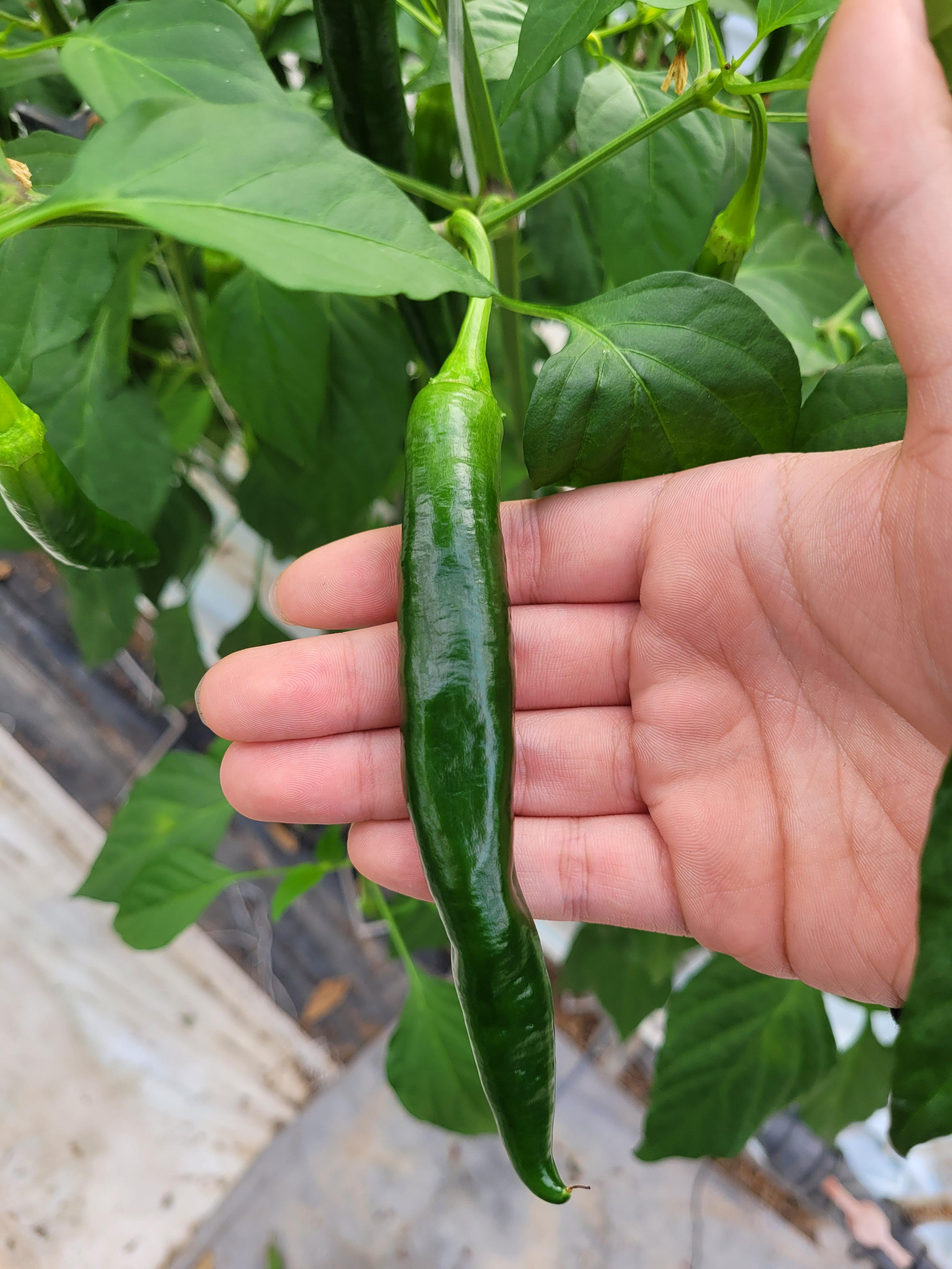Buah Cabai Sehat: (393, 345, 591, 1206)
